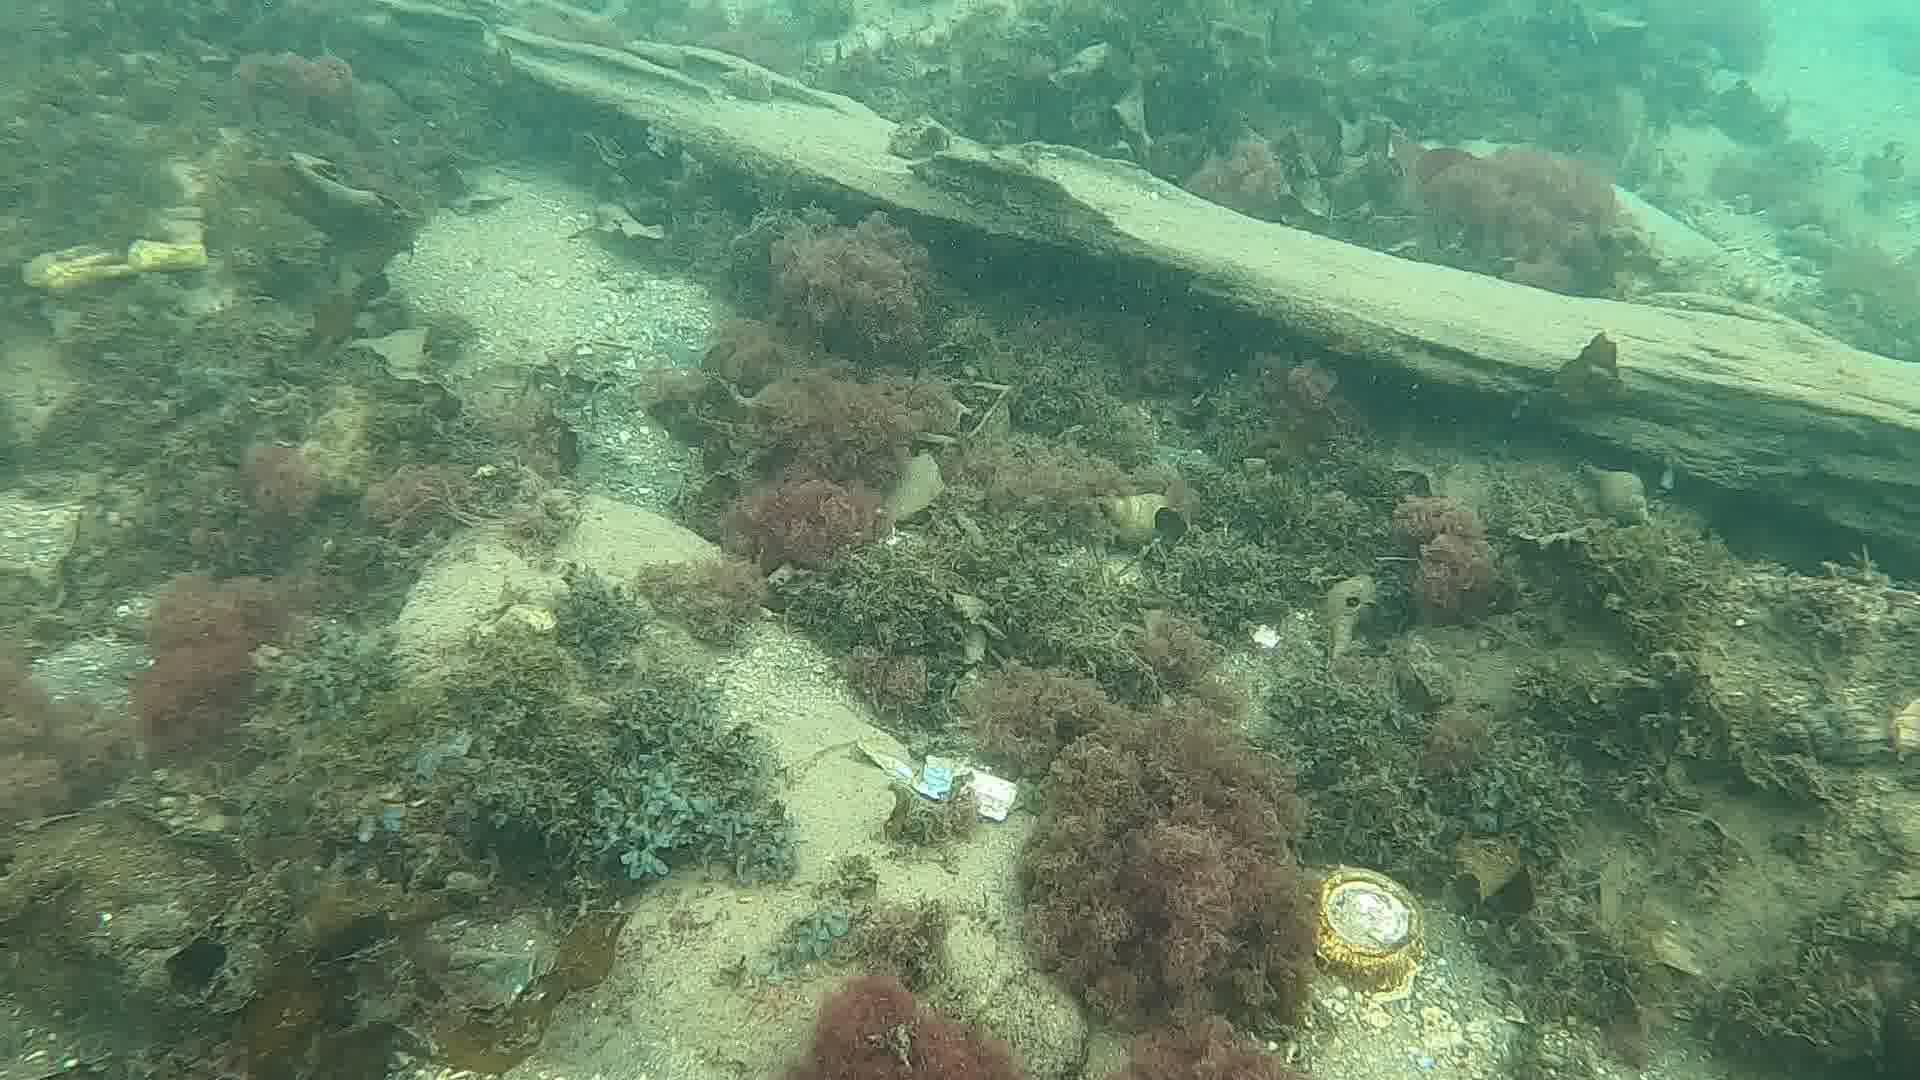wood: (334, 0, 1920, 549)
